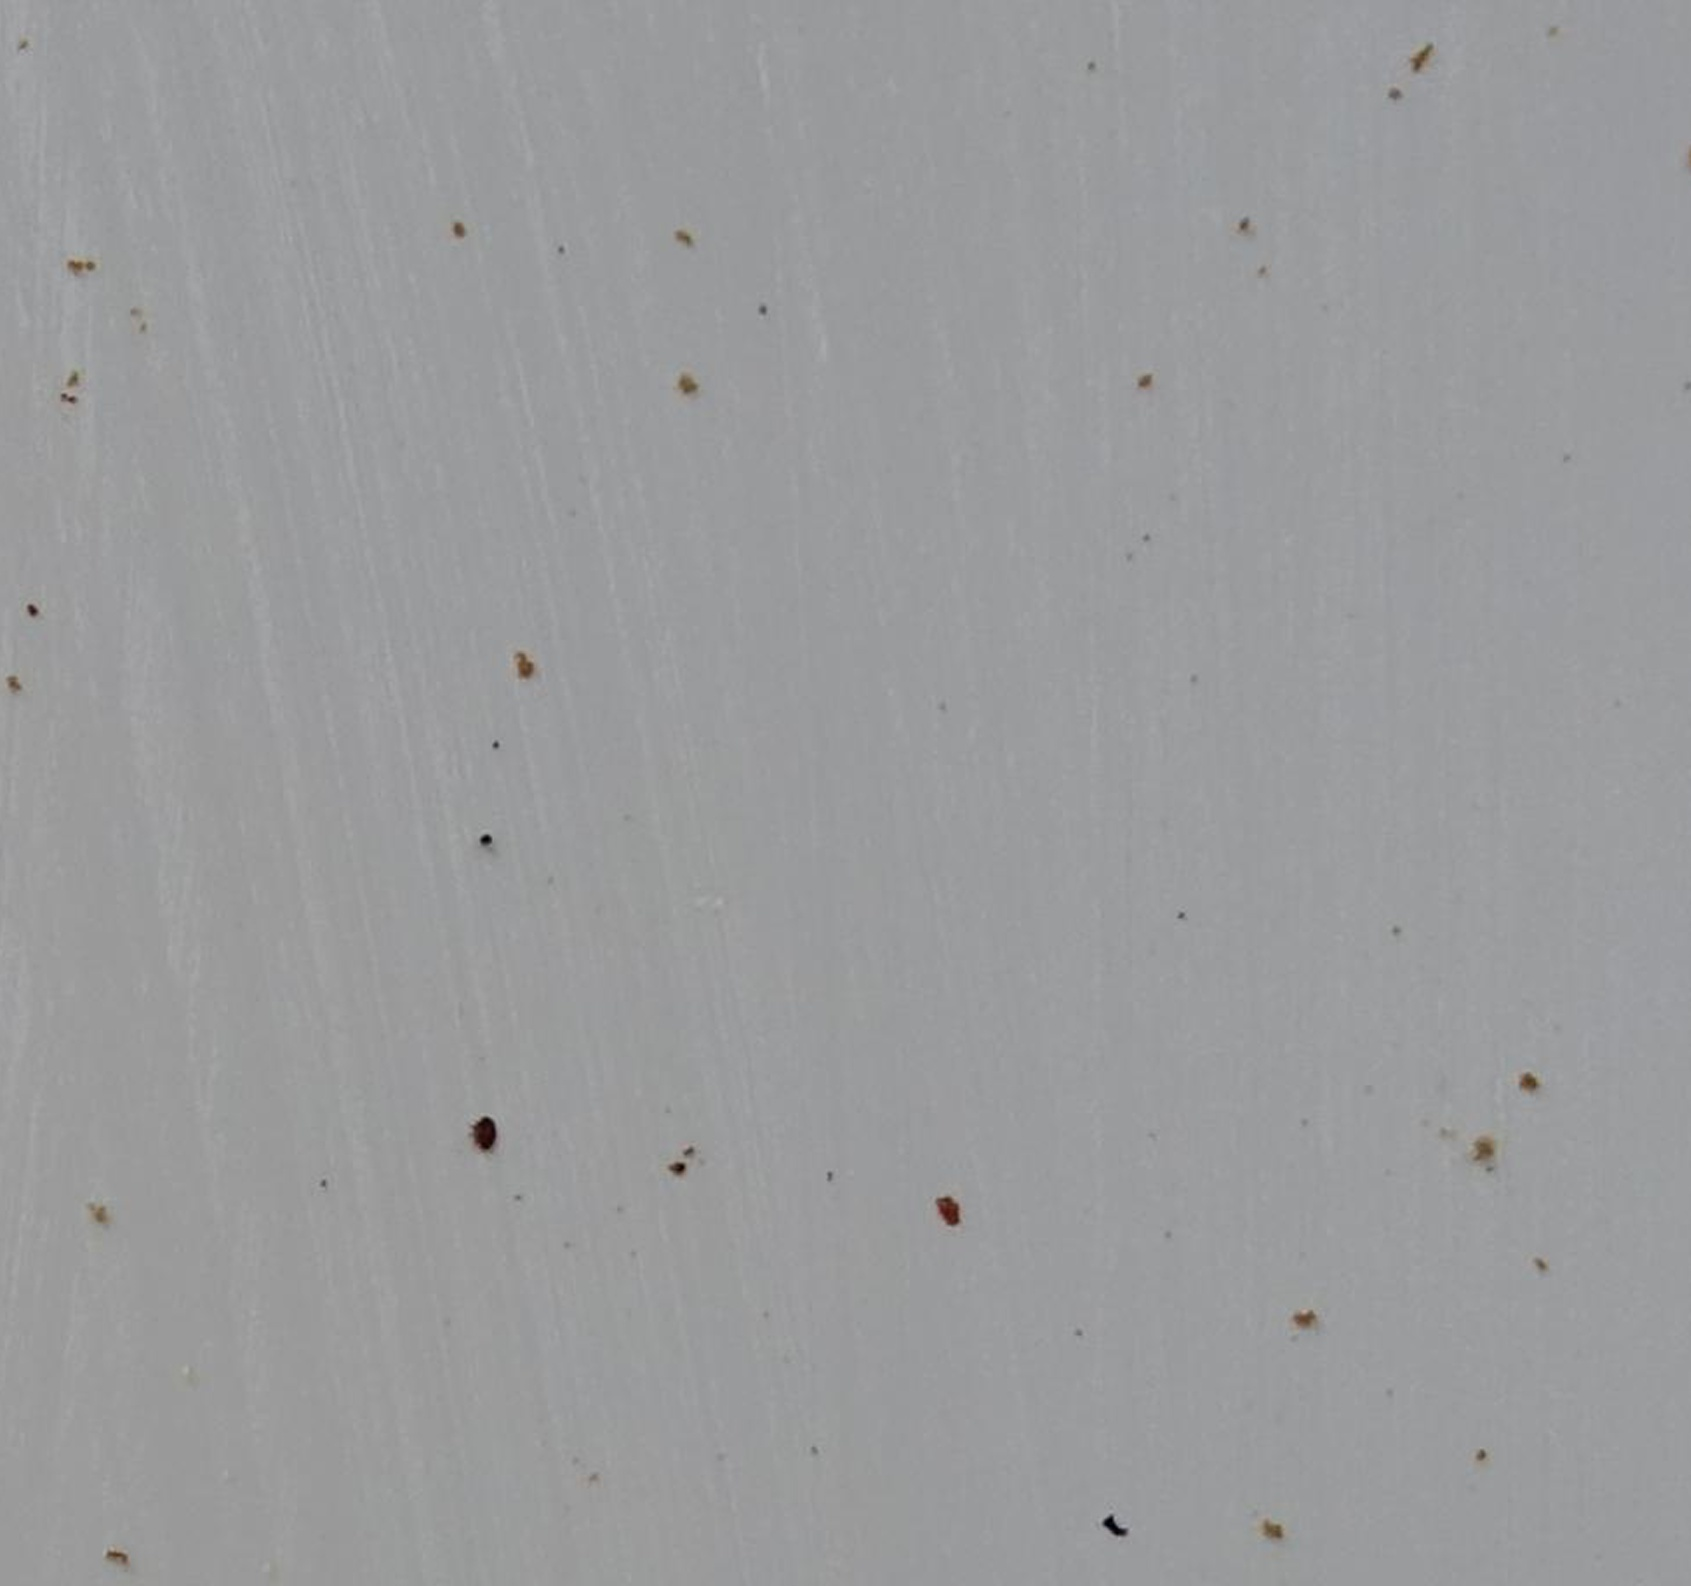Varroa: (477, 1121, 503, 1146)
